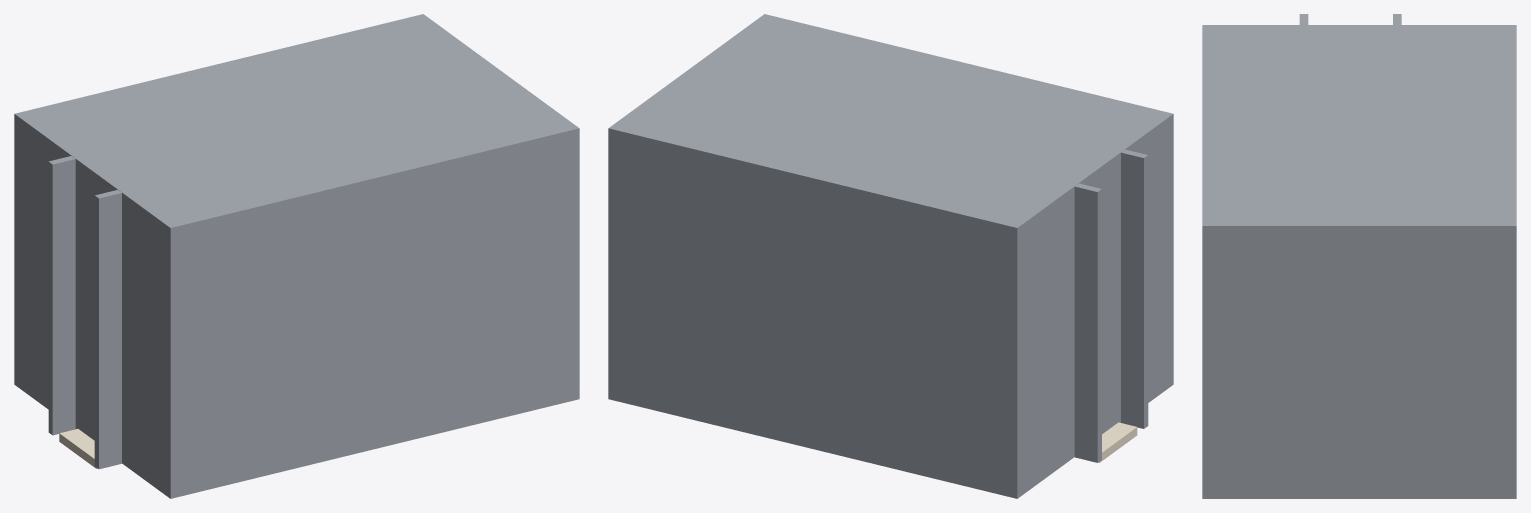
File: CleanACat_Area_GardenSideBuilding.fbx
3 views of the same model, side by side, from view 1: azimuth 30°, elevation 25°; view 2: azimuth 150°, elevation 25°; view 3: azimuth 270°, elevation 25° (orthographic).
Visible parts, largest first — view 1: CleanACat_Area_GardenSideBuilding_Barrier, CleanACat_Area_GardenSideBuilding; view 2: CleanACat_Area_GardenSideBuilding_Barrier, CleanACat_Area_GardenSideBuilding; view 3: CleanACat_Area_GardenSideBuilding_Barrier.
Boxes of the visible parts, <box> form: CleanACat_Area_GardenSideBuilding_Barrier: <box>14,14,579,498</box>; CleanACat_Area_GardenSideBuilding: <box>59,429,97,468</box>; CleanACat_Area_GardenSideBuilding_Barrier: <box>608,14,1173,498</box>; CleanACat_Area_GardenSideBuilding: <box>1098,422,1137,462</box>; CleanACat_Area_GardenSideBuilding_Barrier: <box>1202,14,1516,498</box>.
Bounding box in the file's own units: 20.03 × 12.28 × 12.54.
1 material, 1 textured.
